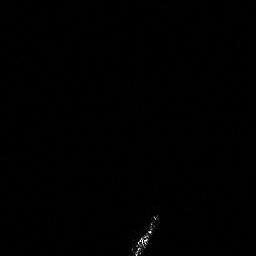ship: (126, 211, 163, 256)
